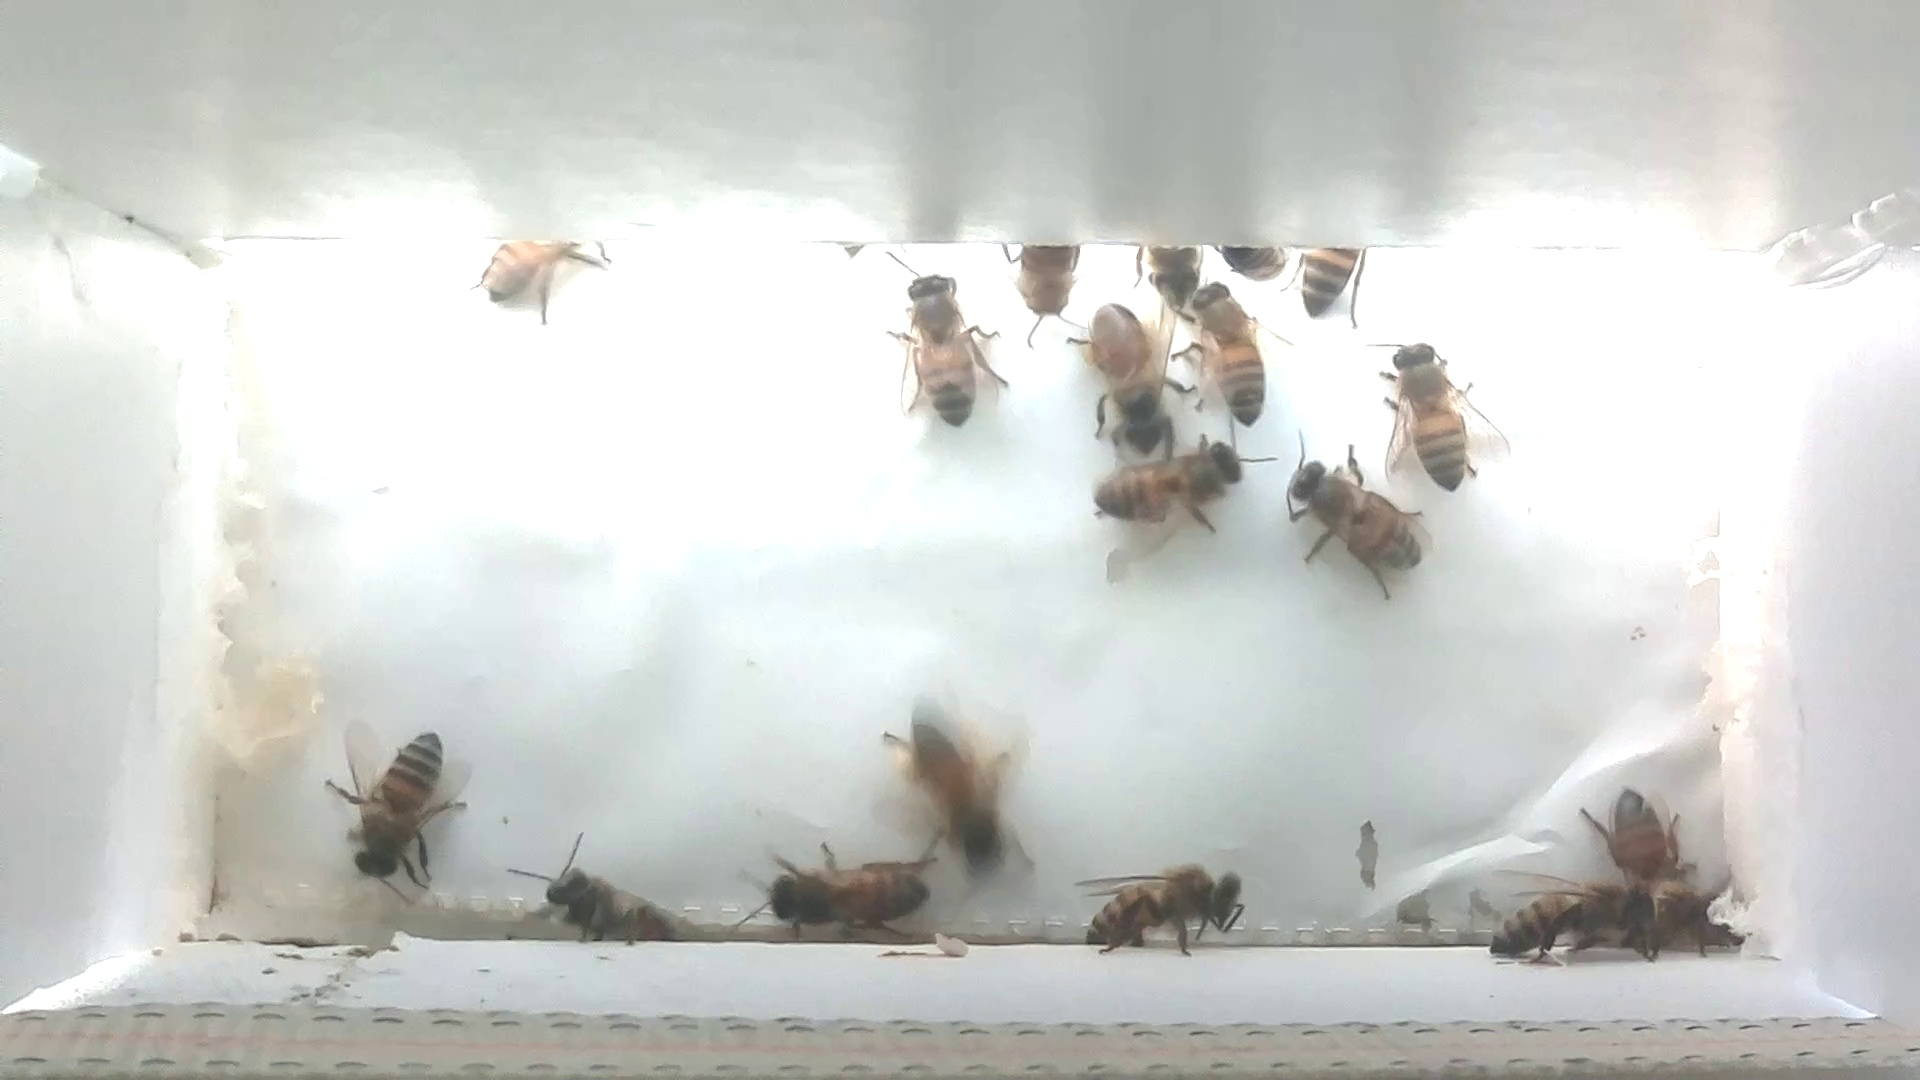bee: (1271, 435, 1449, 603), (886, 711, 1044, 891), (1080, 426, 1280, 556), (728, 843, 945, 959), (1360, 324, 1503, 498), (880, 258, 1015, 440), (328, 713, 473, 884), (1063, 841, 1255, 964), (1065, 305, 1193, 465), (1486, 858, 1658, 978), (520, 847, 704, 956), (1176, 278, 1296, 440), (459, 211, 624, 324), (1578, 789, 1712, 899), (1291, 225, 1385, 339), (1001, 233, 1088, 338), (1139, 229, 1220, 319), (1213, 229, 1298, 291)
